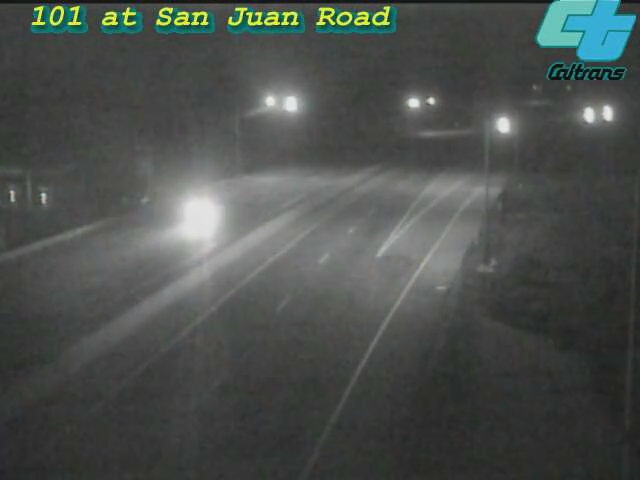vehicle: (163, 173, 243, 253), (480, 101, 530, 151), (564, 91, 614, 141), (581, 88, 631, 138)
